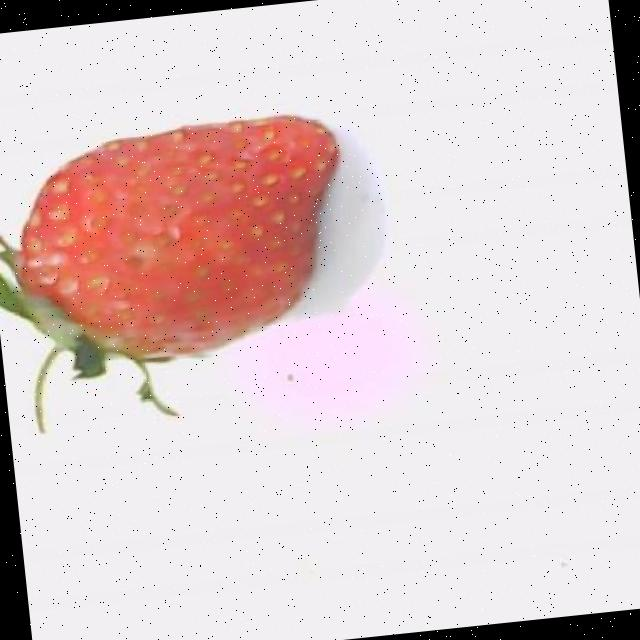strawberry: (0, 115, 337, 429)
